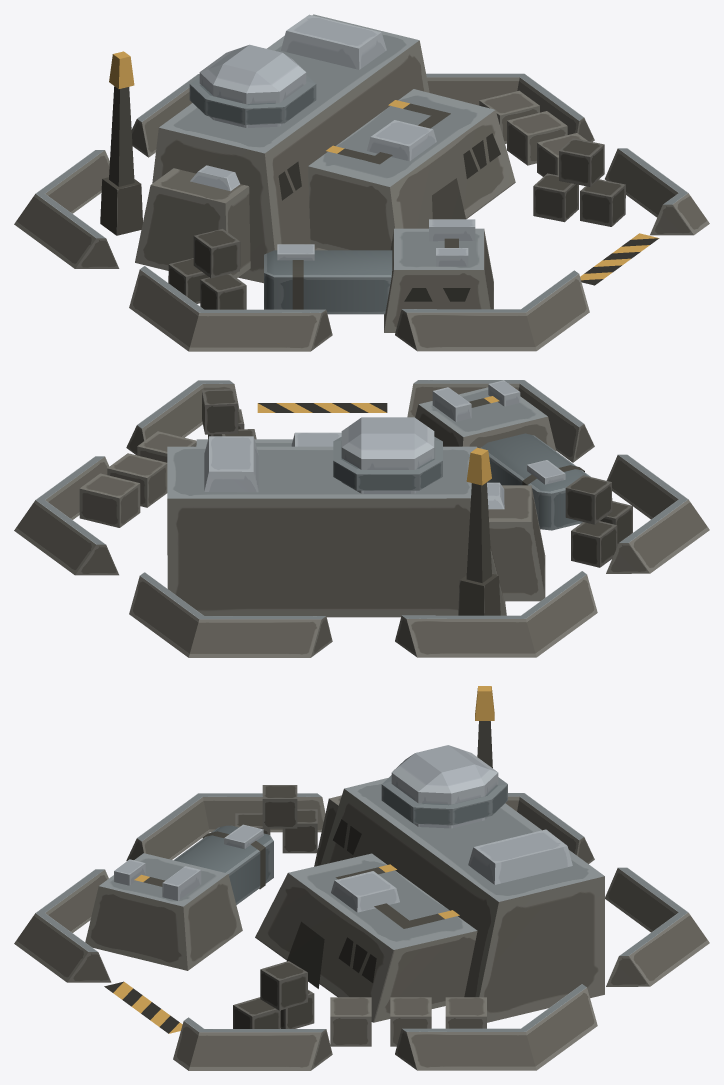
Rendered from encampment2.FBX.
3 renders of one model, top to bottom at view 1: azimuth 30°, elevation 25°; view 2: azimuth 150°, elevation 25°; view 3: azimuth 270°, elevation 25°, orthographic.
Parts seen in each view (by area): view 1: Encampment_lv2, b, a; view 2: Encampment_lv2, b, a; view 3: Encampment_lv2, b, a.
Boxes of the visible parts, x1,y1,x2,y2 form: Encampment_lv2: (14, 14, 709, 351); b: (189, 75, 316, 124); a: (367, 120, 436, 161); Encampment_lv2: (14, 380, 709, 657); b: (333, 436, 442, 490); a: (291, 432, 341, 446); Encampment_lv2: (14, 686, 709, 1070); b: (381, 775, 507, 825); a: (331, 871, 399, 912).
Bounding box in the file's own units: 159 × 183 × 53.29.
